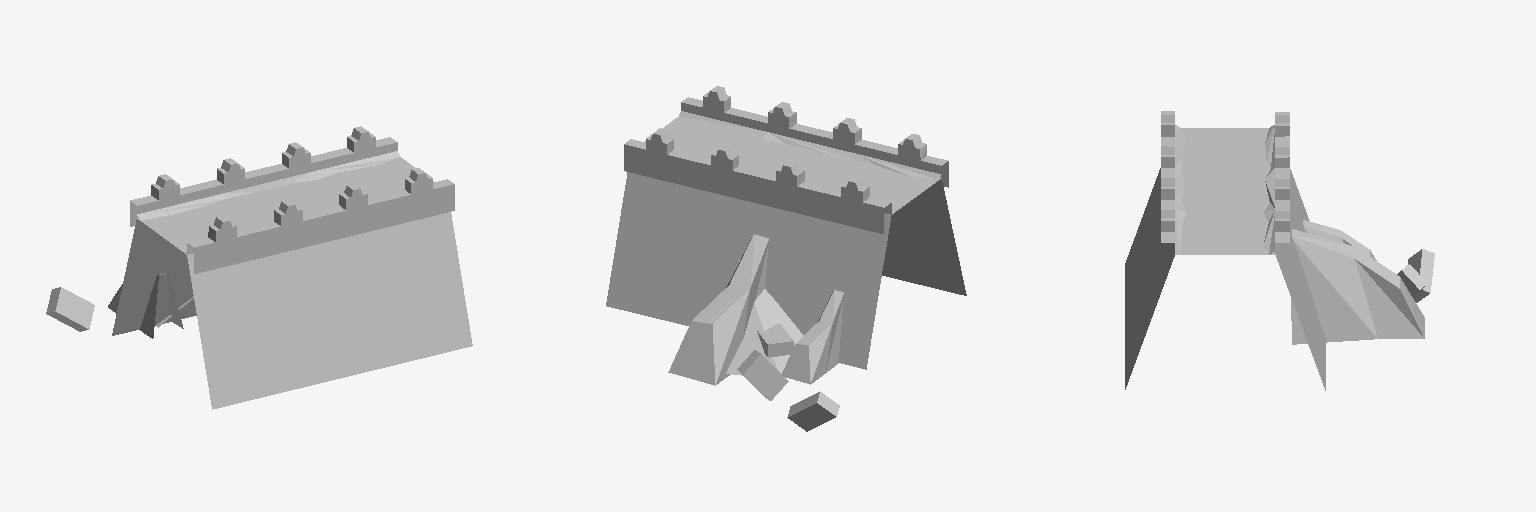
File: templeStraightHorz2_prefab.obj
The picture shows the model from 3 angles: view 1: azimuth 30°, elevation 25°; view 2: azimuth 150°, elevation 25°; view 3: azimuth 270°, elevation 25°; orthographic projection.
Parts seen in each view (by area): view 1: Object87-Pivot; view 2: Object87-Pivot; view 3: Object87-Pivot.
Boxes of the visible parts, x1=… form: Object87-Pivot: x1=46, y1=126, x2=472, y2=409; Object87-Pivot: x1=606, y1=86, x2=966, y2=431; Object87-Pivot: x1=1125, y1=111, x2=1434, y2=390.
Size of the model in its own units: 64.13 by 43.88 by 61.8.